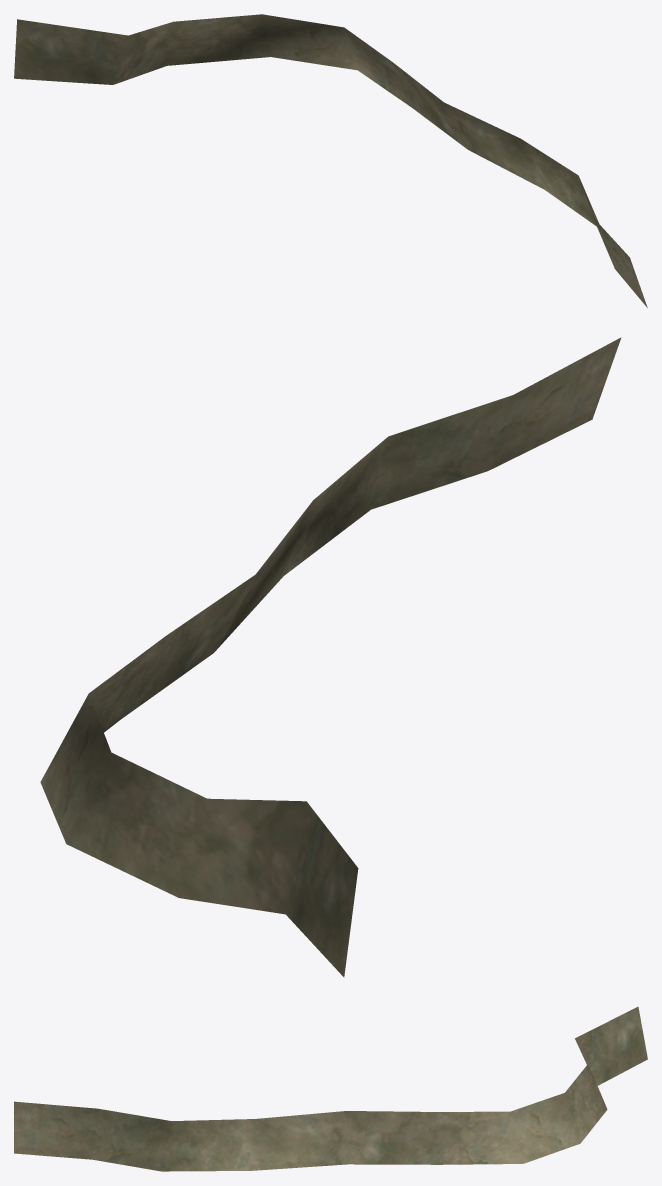
Rendered from EKH_CAVERNS_PS_CA_OBJECT24.fbx.
The picture shows the model from 3 angles, top to bottom: view 1: azimuth 30°, elevation 25°; view 2: azimuth 150°, elevation 25°; view 3: azimuth 270°, elevation 25°; orthographic projection. The views are drawn at different scales.
Parts seen in each view (by area): view 1: EKH_CAVERNS_PS_CA_OBJECT24; view 2: EKH_CAVERNS_PS_CA_OBJECT24; view 3: EKH_CAVERNS_PS_CA_OBJECT24.
Boxes of the visible parts, box(x1,y1,x2,y2) form: EKH_CAVERNS_PS_CA_OBJECT24: box(14, 14, 647, 307); EKH_CAVERNS_PS_CA_OBJECT24: box(40, 337, 621, 977); EKH_CAVERNS_PS_CA_OBJECT24: box(14, 1007, 647, 1171).
Bounding box in the file's own units: 37064 × 7916 × 87696.
1 material, 1 textured.
